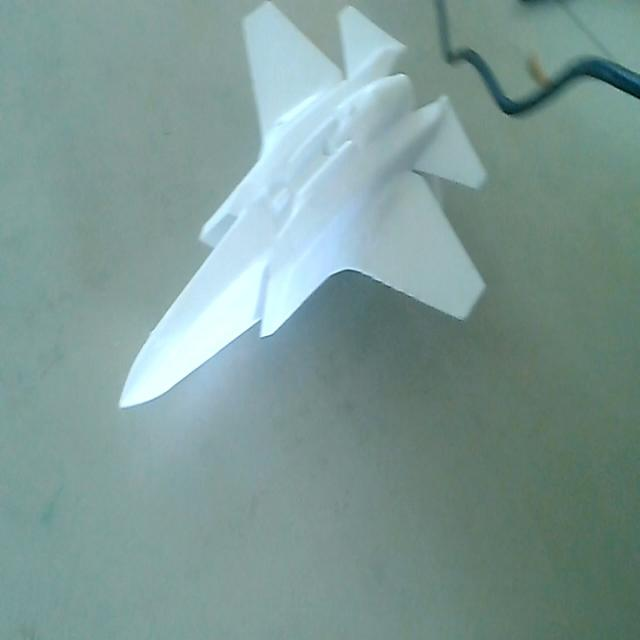Jet: (110, 2, 497, 414)
